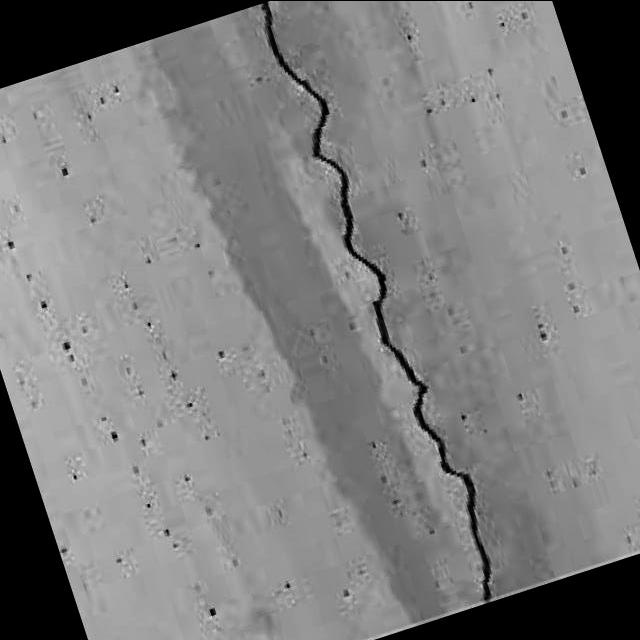defect: (257, 2, 498, 605)
